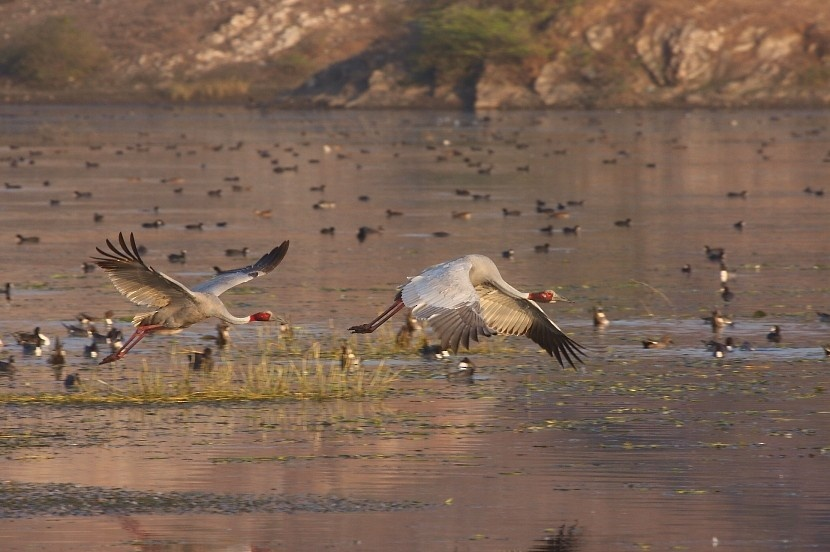crane: (352, 250, 604, 367), (95, 238, 303, 359)
